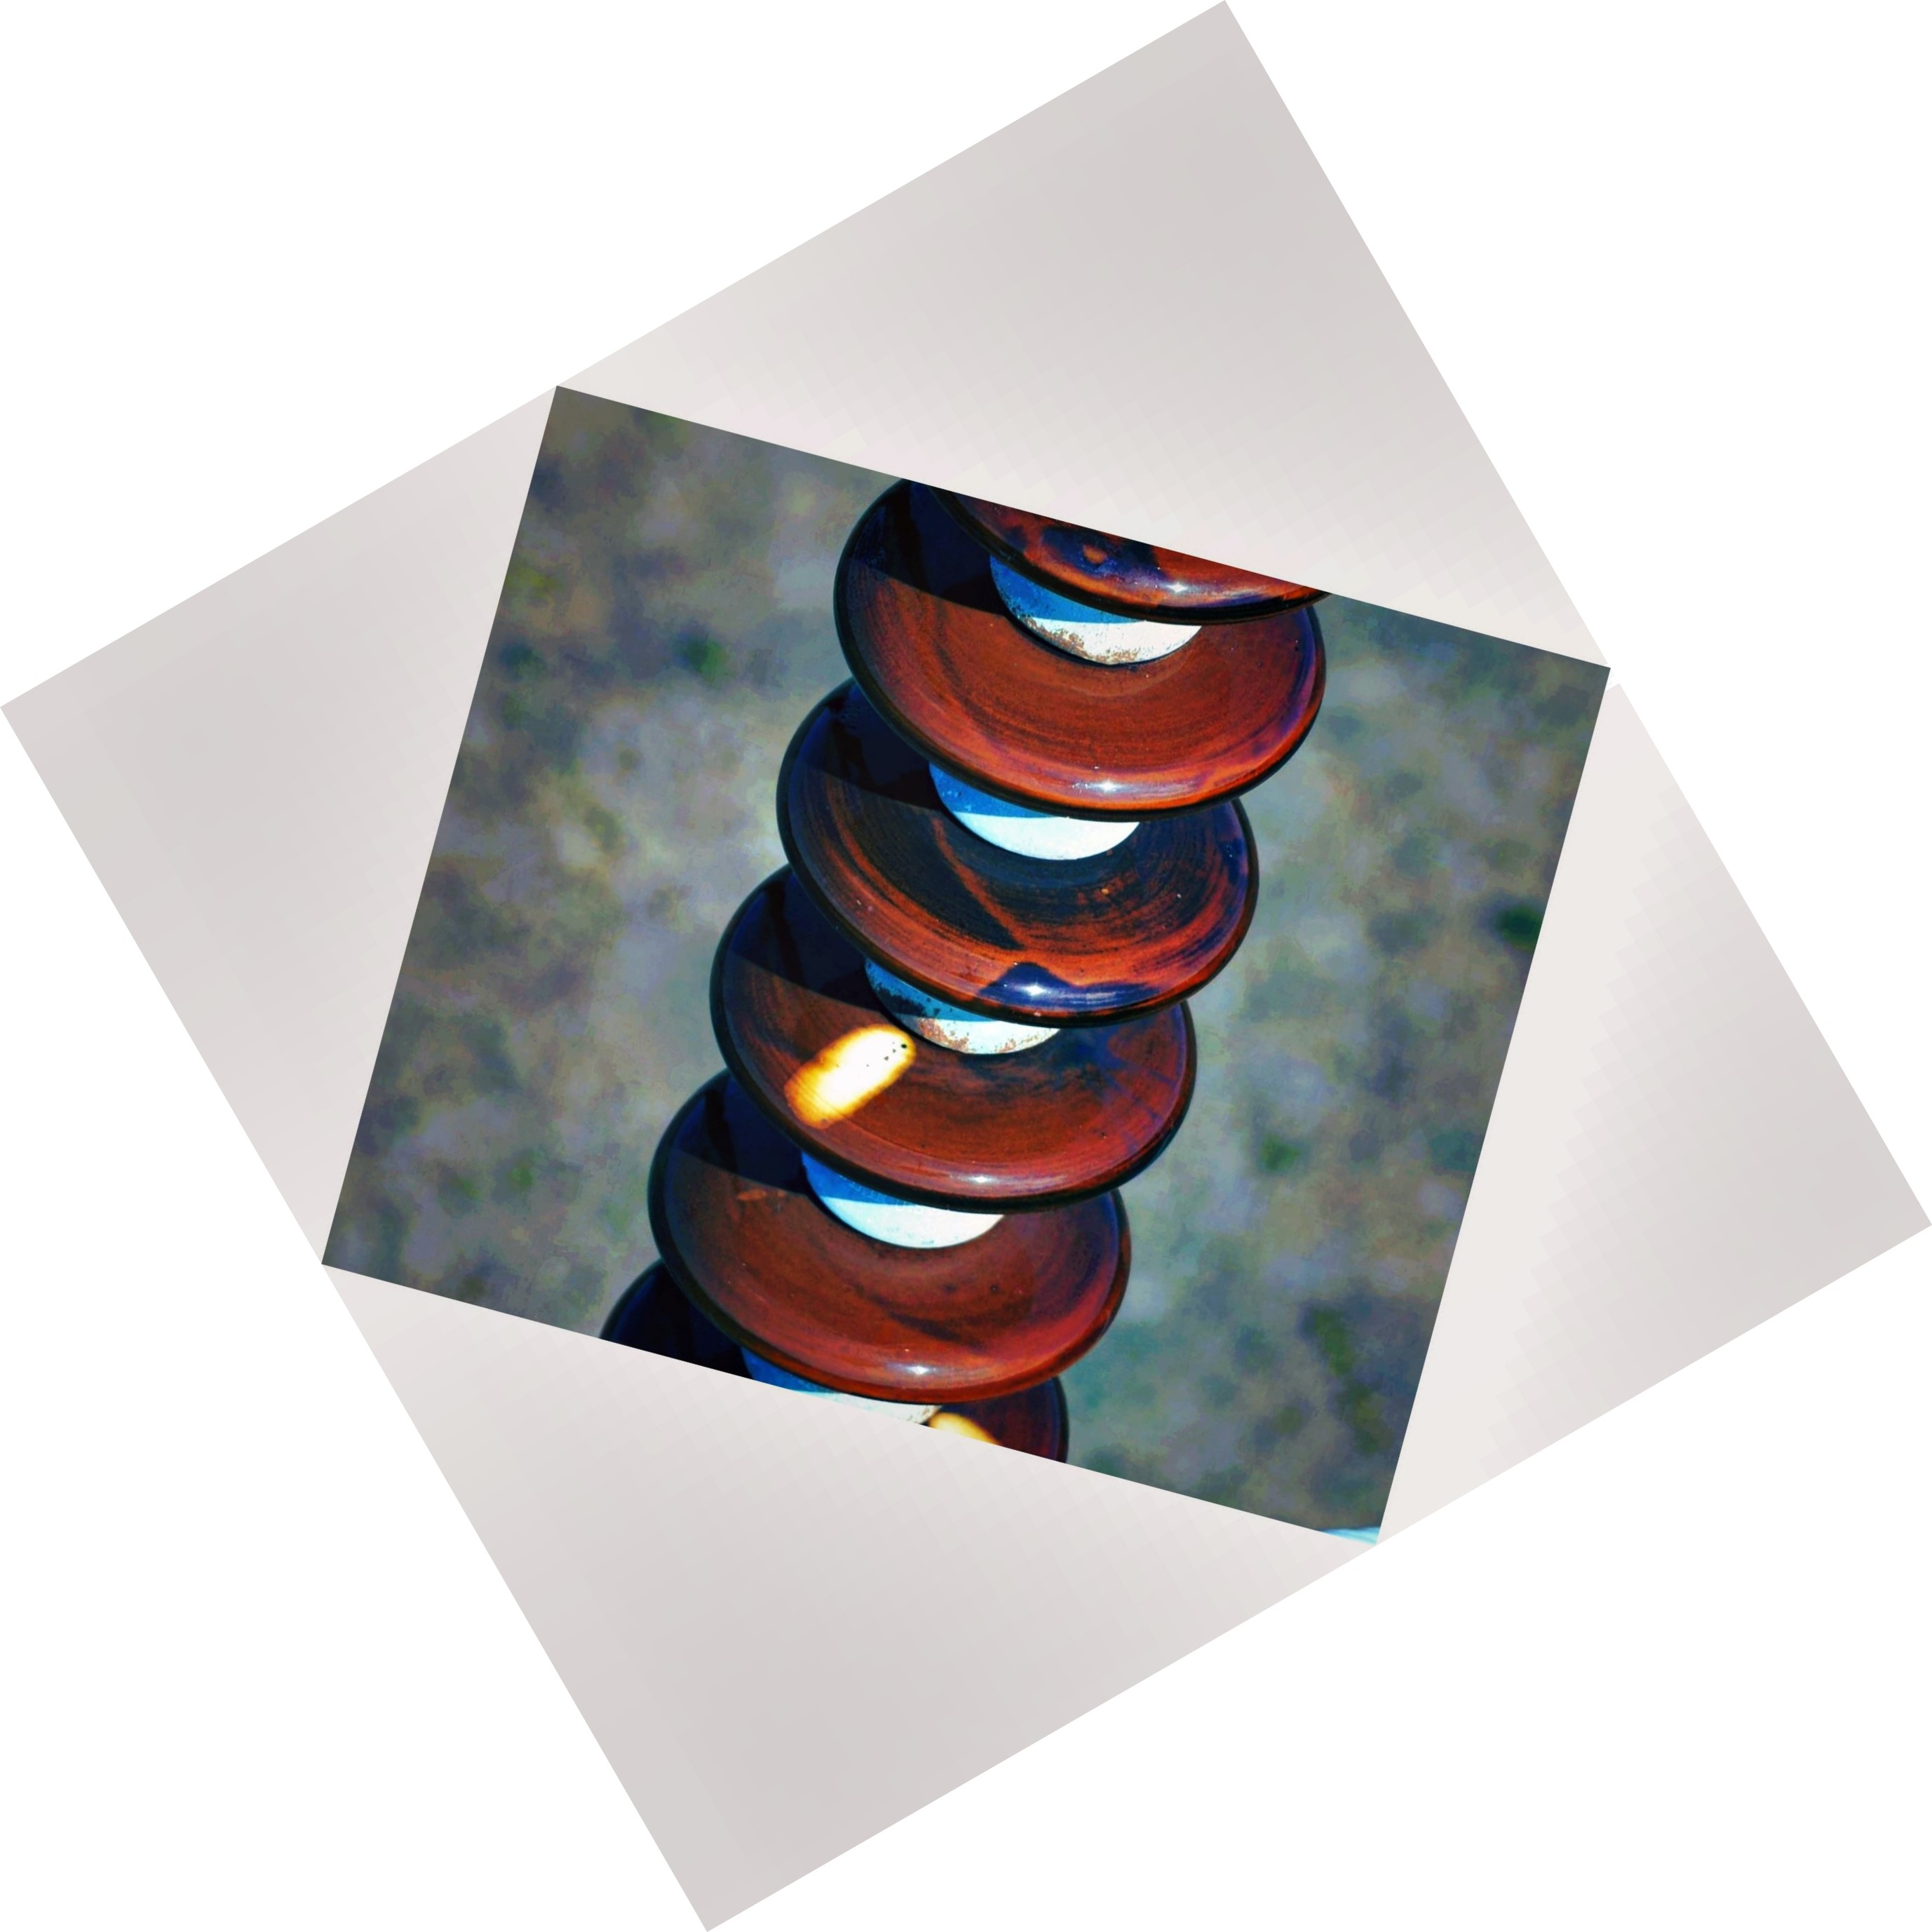Insulator flashover: (676, 862, 1224, 1221)
